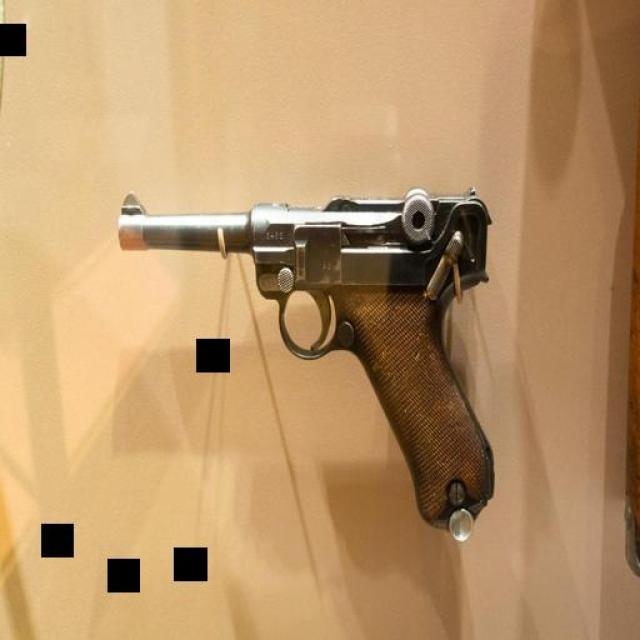gun: (104, 176, 508, 550)
